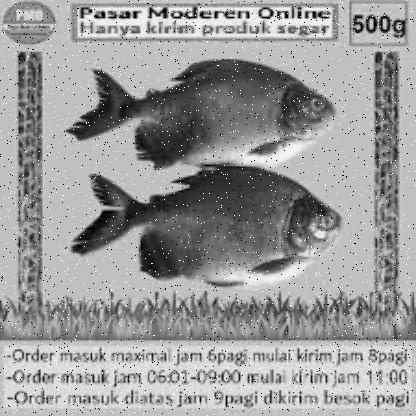ikan-pacu: (78, 171, 340, 286), (76, 54, 338, 166)
